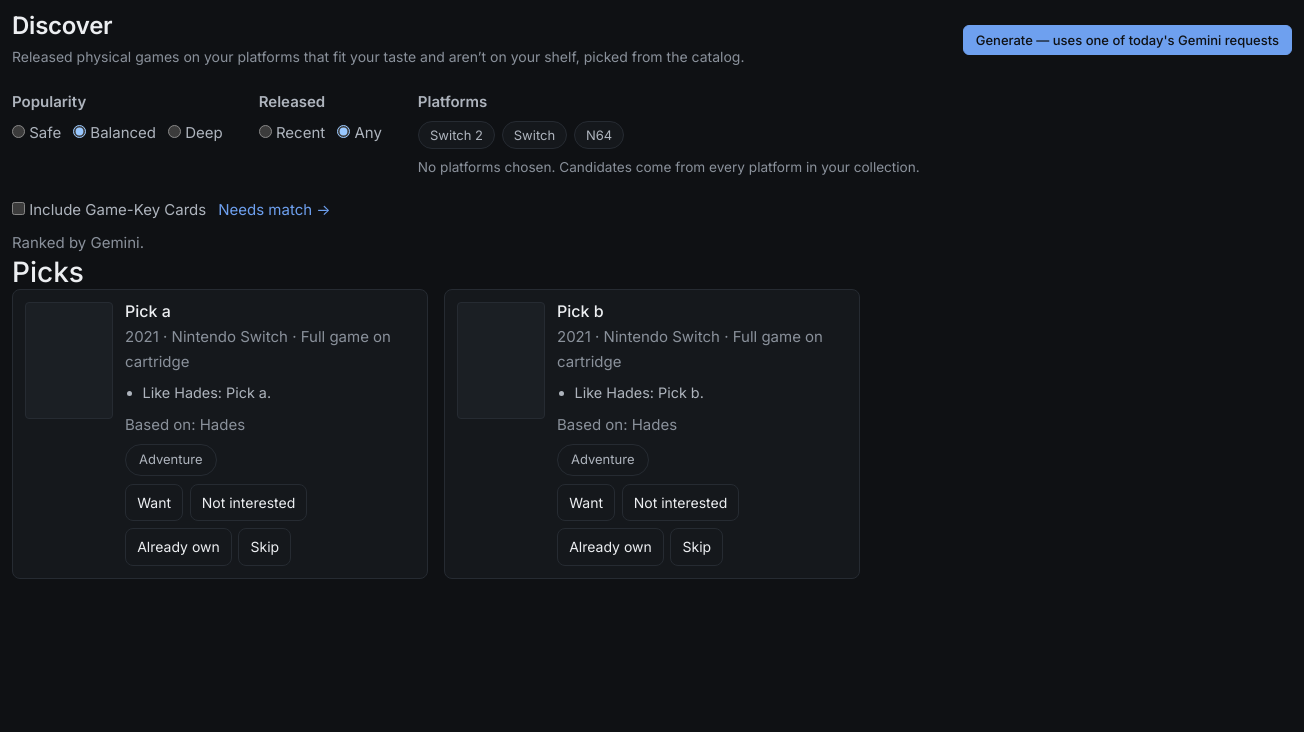
Scenario: AdminDiscover › Already own posts /own and takes the card away
Click the button with aria-label "Already own Pick a": {"x": 178, "y": 547} [125, 528, 232, 566]
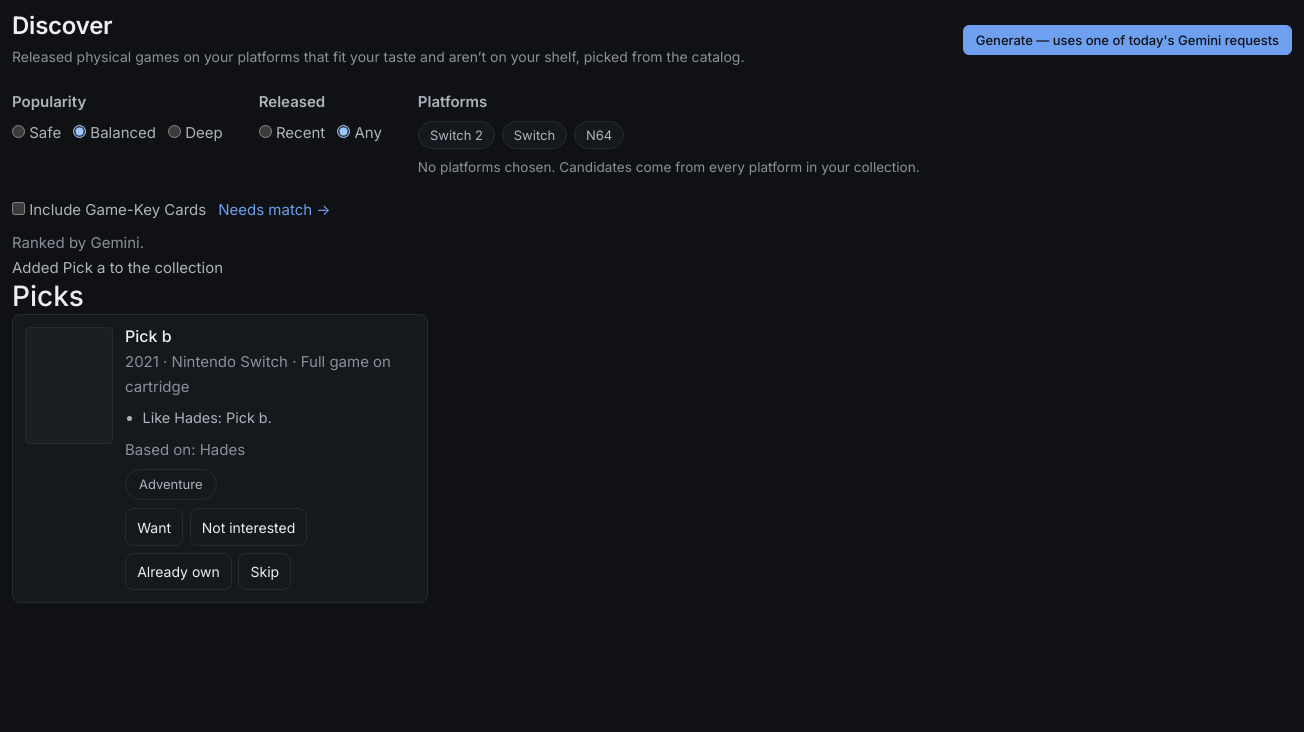
Expected: the message reads "Added Pick a to the collection", [12, 258, 223, 276]
